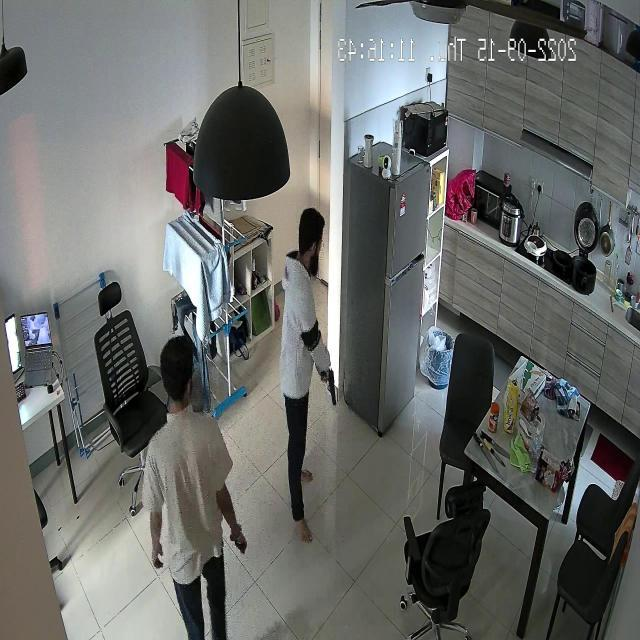Gun: (313, 361, 345, 412)
